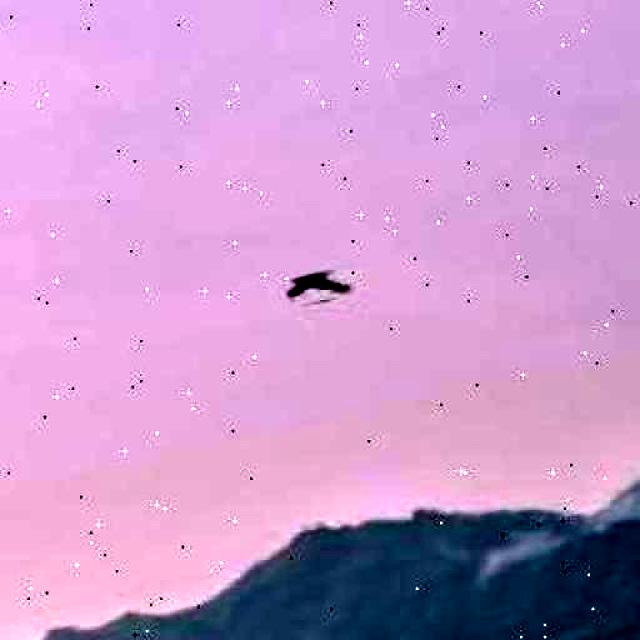airplane: (284, 265, 354, 308)
